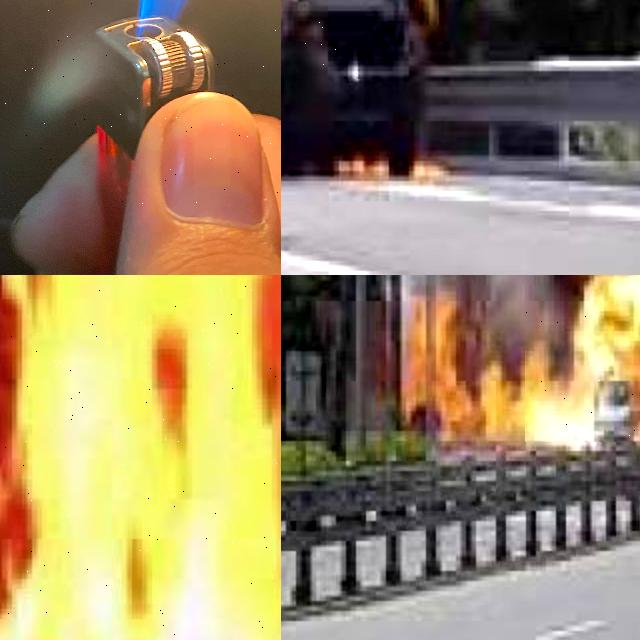fire: (0, 275, 281, 640), (104, 275, 281, 640), (0, 0, 213, 205), (401, 290, 596, 445)
